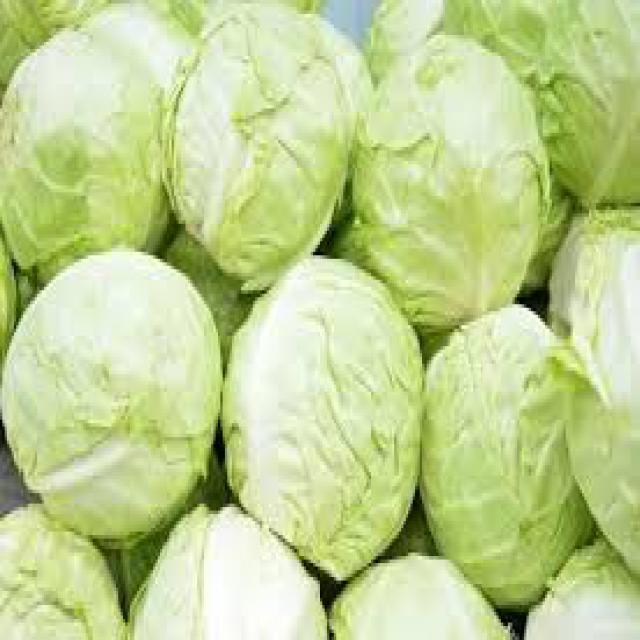Cabbage: (2, 252, 223, 546), (222, 261, 419, 574), (350, 35, 554, 317), (420, 306, 585, 608), (170, 9, 352, 275), (1, 16, 172, 285), (546, 198, 640, 583), (127, 504, 330, 640), (0, 496, 128, 636), (329, 555, 516, 640), (524, 538, 640, 636)
